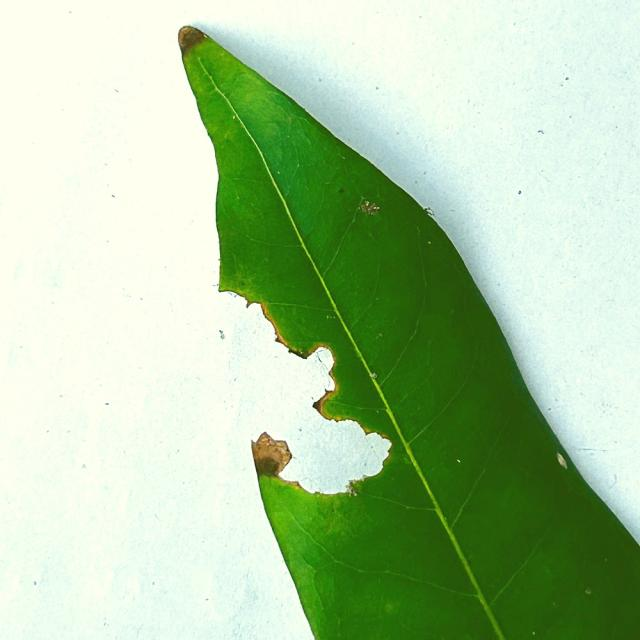Deficiency Leaf: (209, 262, 390, 494)
Lychee: (179, 27, 639, 639)
